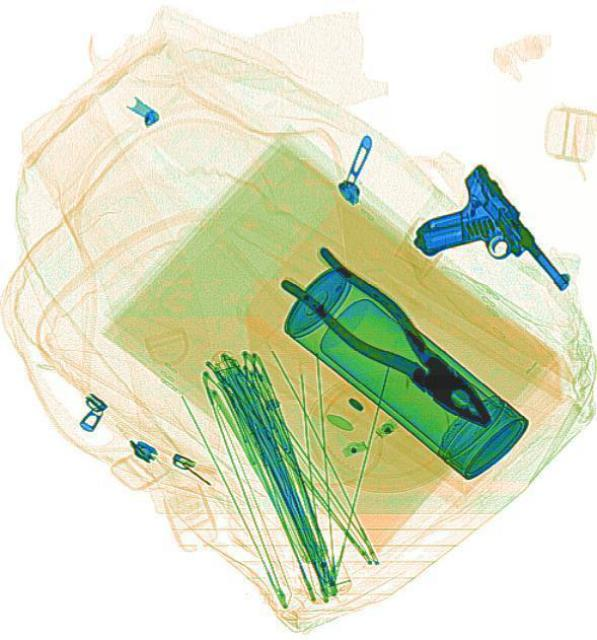Gun: (398, 160, 578, 342)
Pliers: (274, 234, 509, 448)
